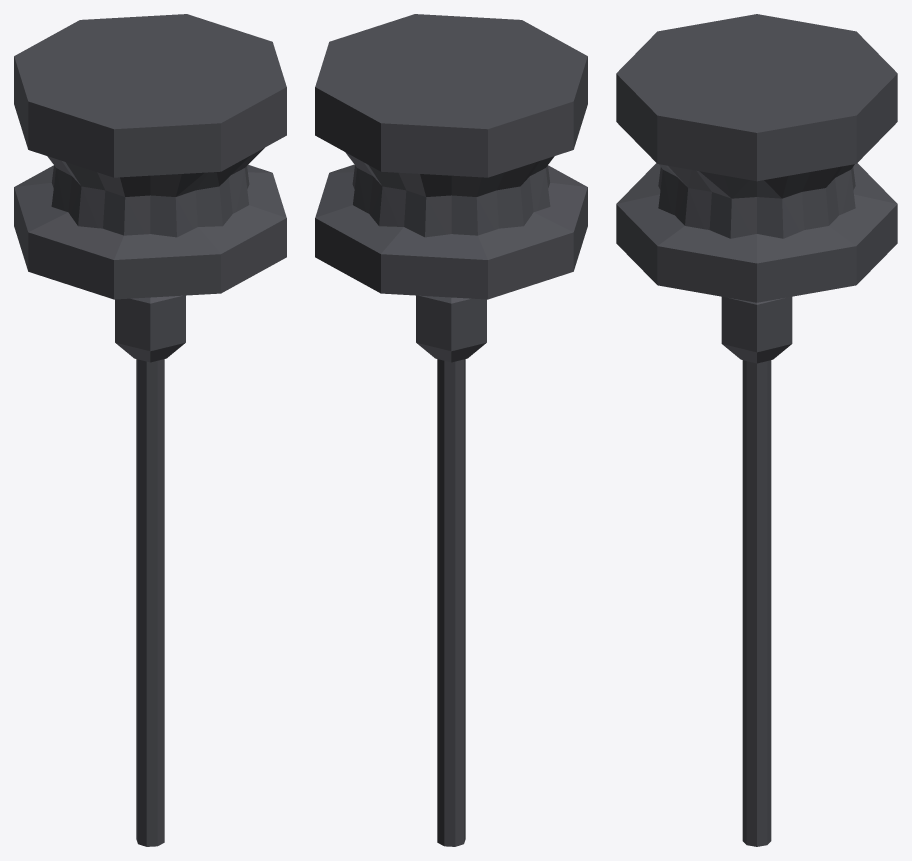
File: _hammer_07.fbx
The picture shows the model from 3 angles, left to right: view 1: azimuth 30°, elevation 25°; view 2: azimuth 150°, elevation 25°; view 3: azimuth 270°, elevation 25°; orthographic projection.
Parts seen in each view (by area): view 1: hammer_07; view 2: hammer_07; view 3: hammer_07.
Boxes of the visible parts, x1,y1,x2,y2 form: hammer_07: (14, 14, 286, 846); hammer_07: (315, 14, 587, 846); hammer_07: (616, 14, 897, 846).
Bounding box in the file's own units: 26.64 × 80.12 × 26.64.
